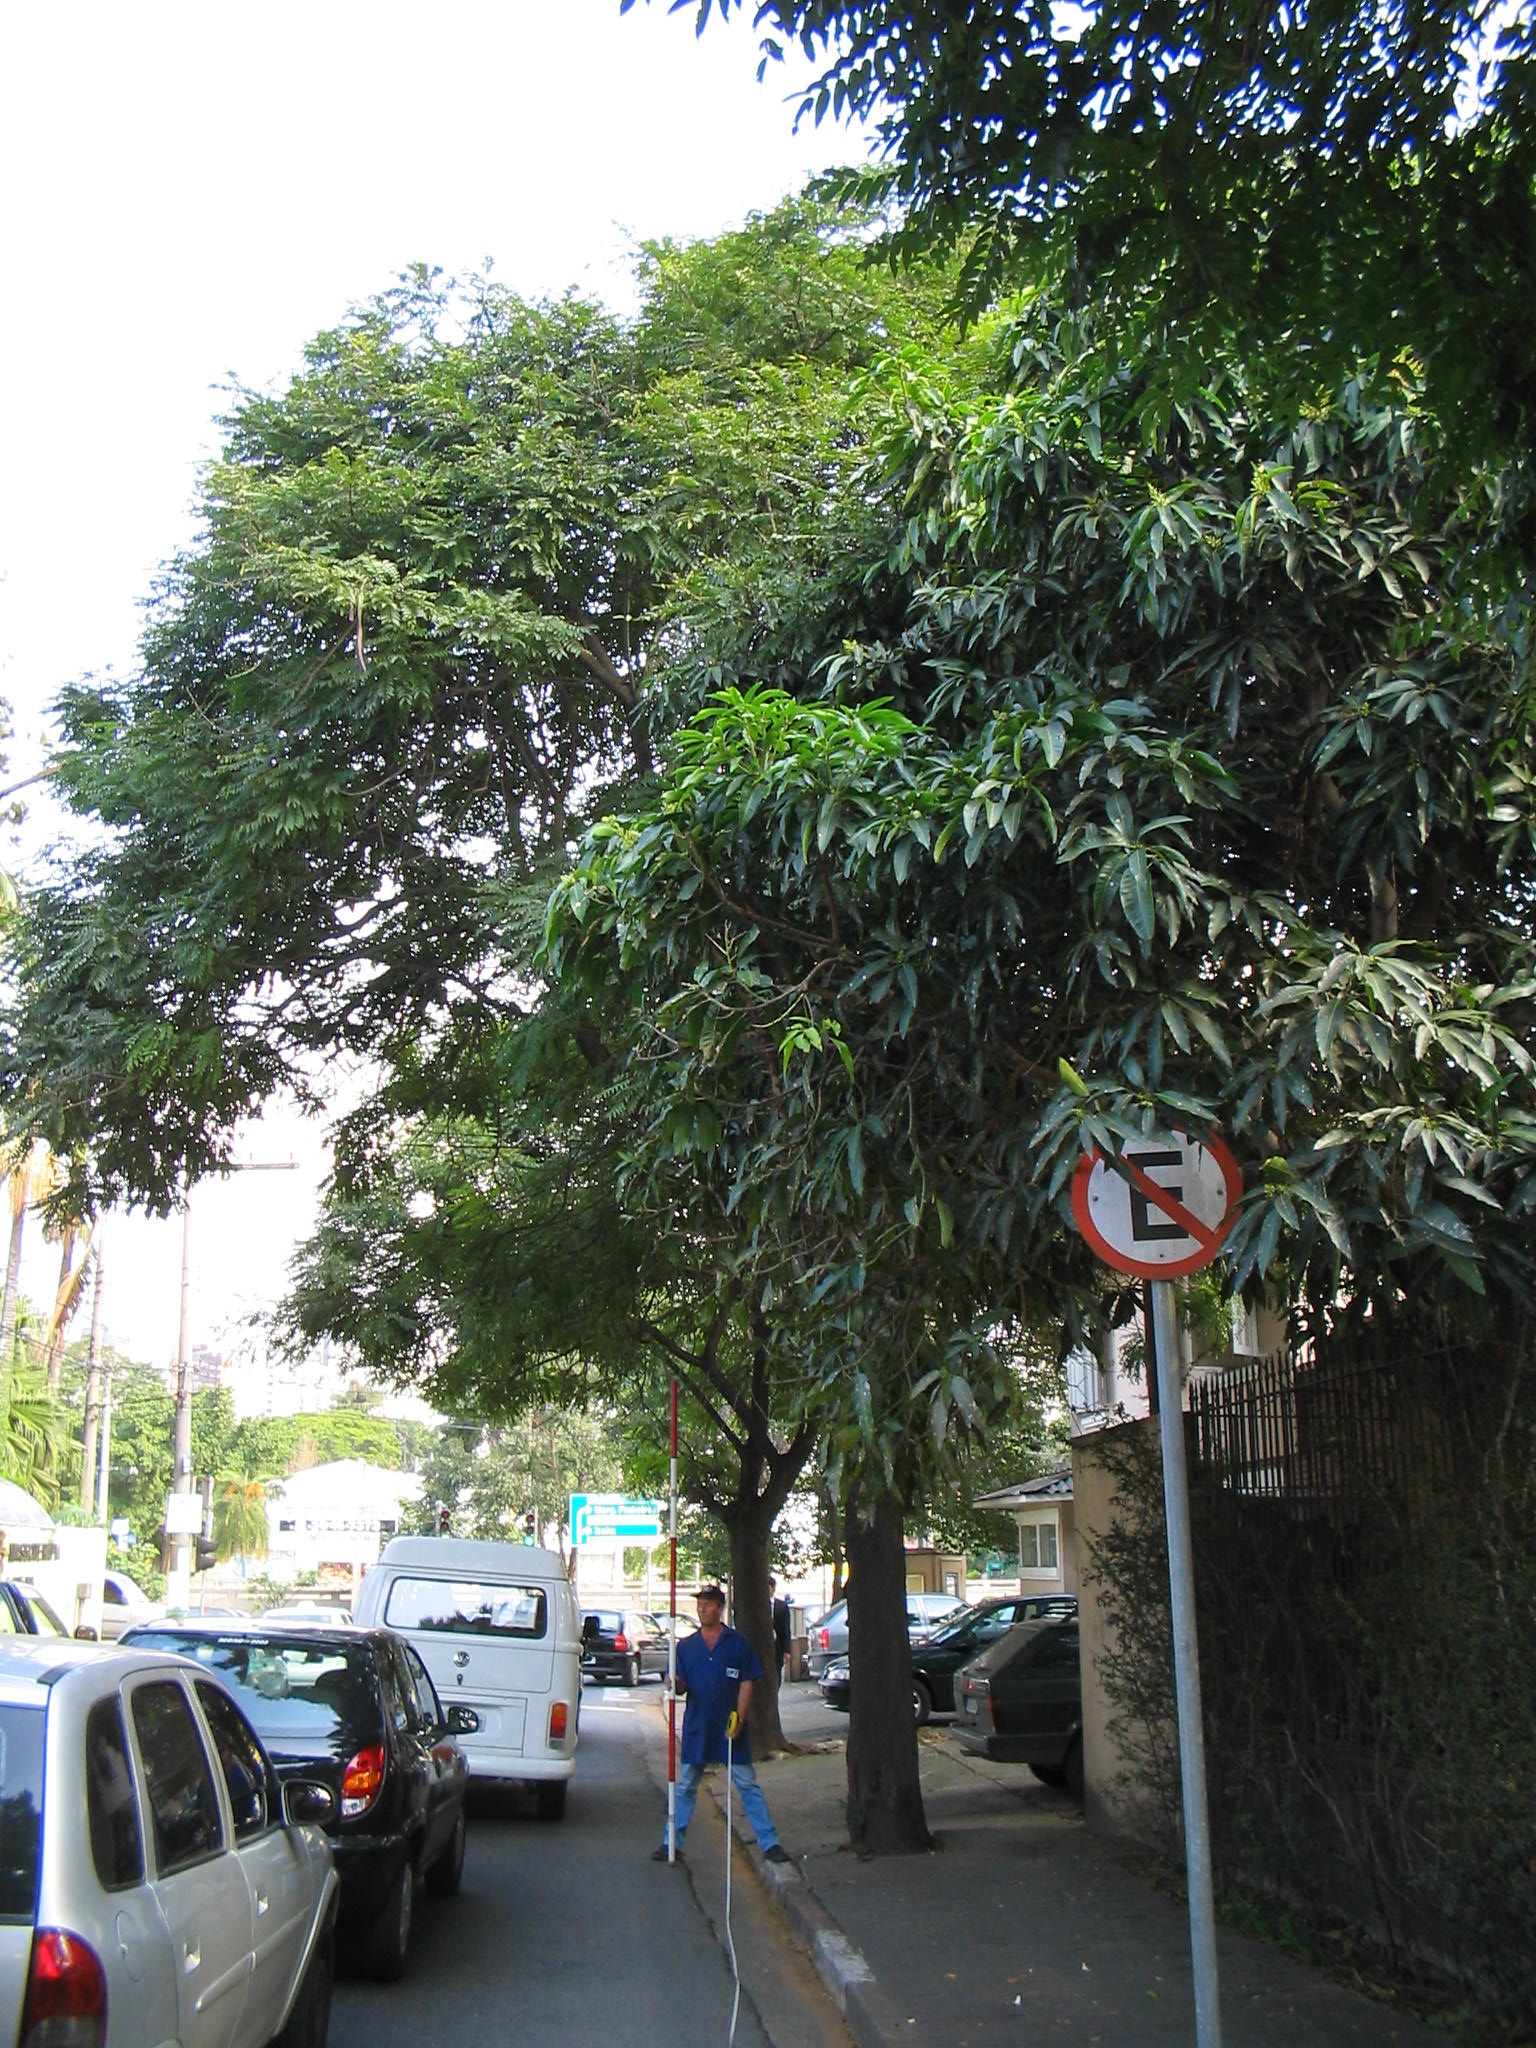stem: (795, 1522, 971, 1859)
stick: (650, 1376, 692, 1871)
